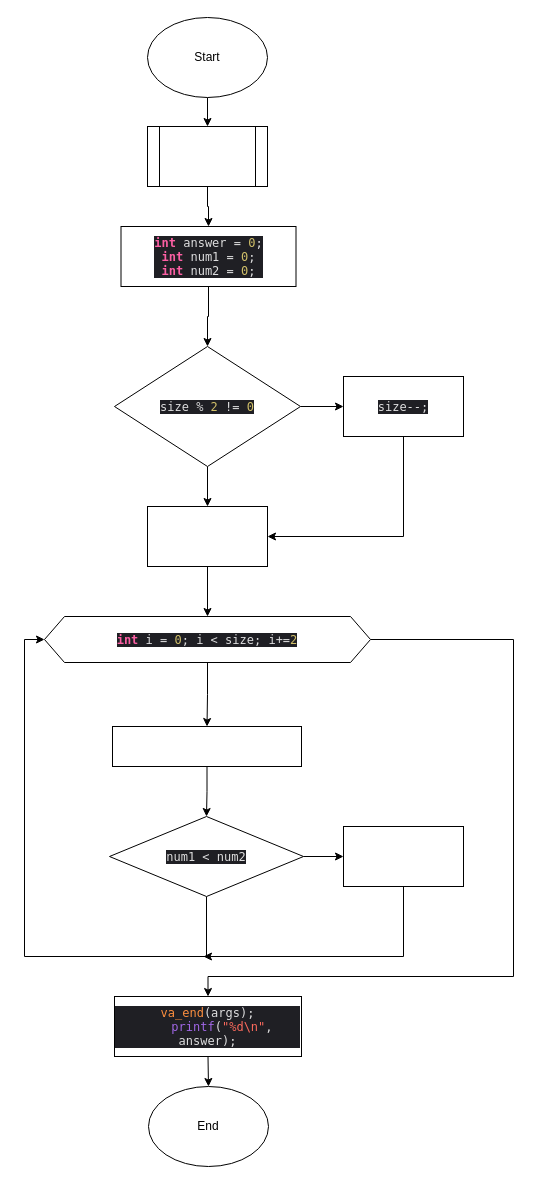
Image size: 539x1184. Some labels were removed from this diagram. Here are the shapes that lost their labels. From the top down, the centre of each, then its label:
the point at 207,156: comparePairs
the point at 207,536: va_start (args, size);
the point at 207,746: num1 = va_arg (args, int ); num2 = va_arg (args, int )
the point at 403,856: answer++;
